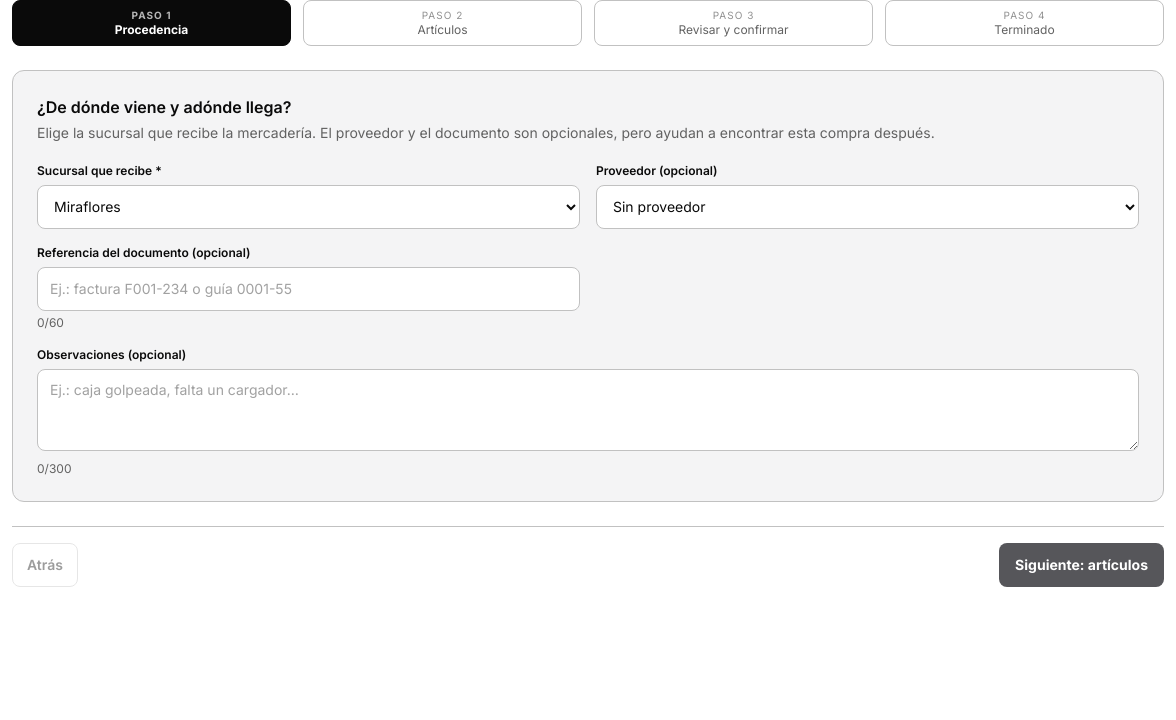
Test: paso 2 · Artículos › el mismo producto dos veces no duplica la línea: avisa y sigue en la misma
Click the button "Siguiente: artículos": coordinates (1082, 564) [999,542,1164,586]
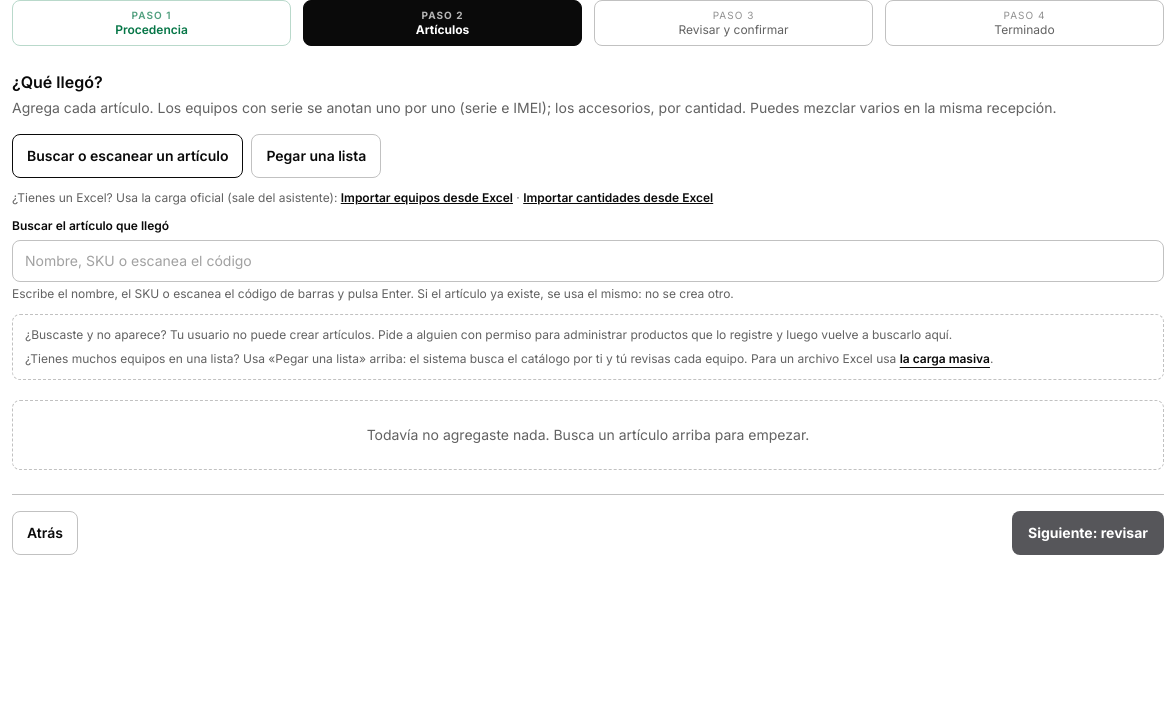
Result: the heading "¿Qué llegó?" is shown at [12,72,103,92]
In the dropdown labelled "Buscar el artículo que llegó": coordinates (588, 260) [12,240,1164,282], type "Cabl"
Then press Enter
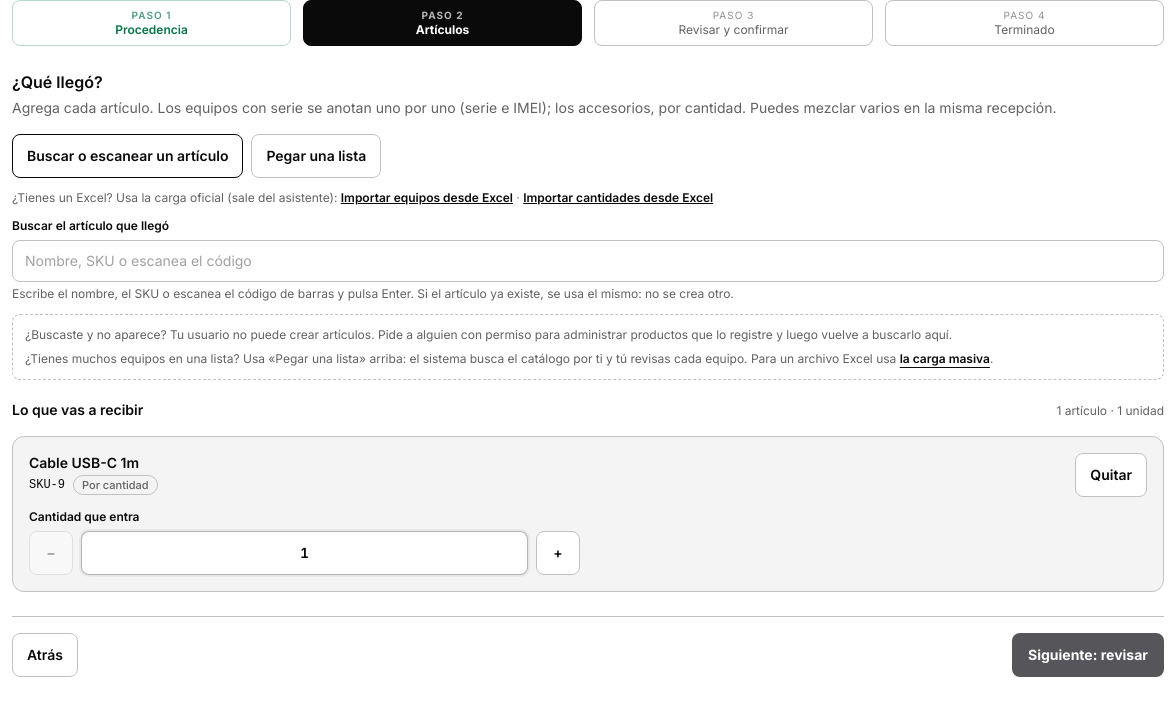
Result: the element "Cable USB-C 1m" is shown at [12,436,1164,592]
In the dropdown labelled "Buscar el artículo que llegó": coordinates (588, 260) [12,240,1164,282], type "Cabl"
Then press Enter
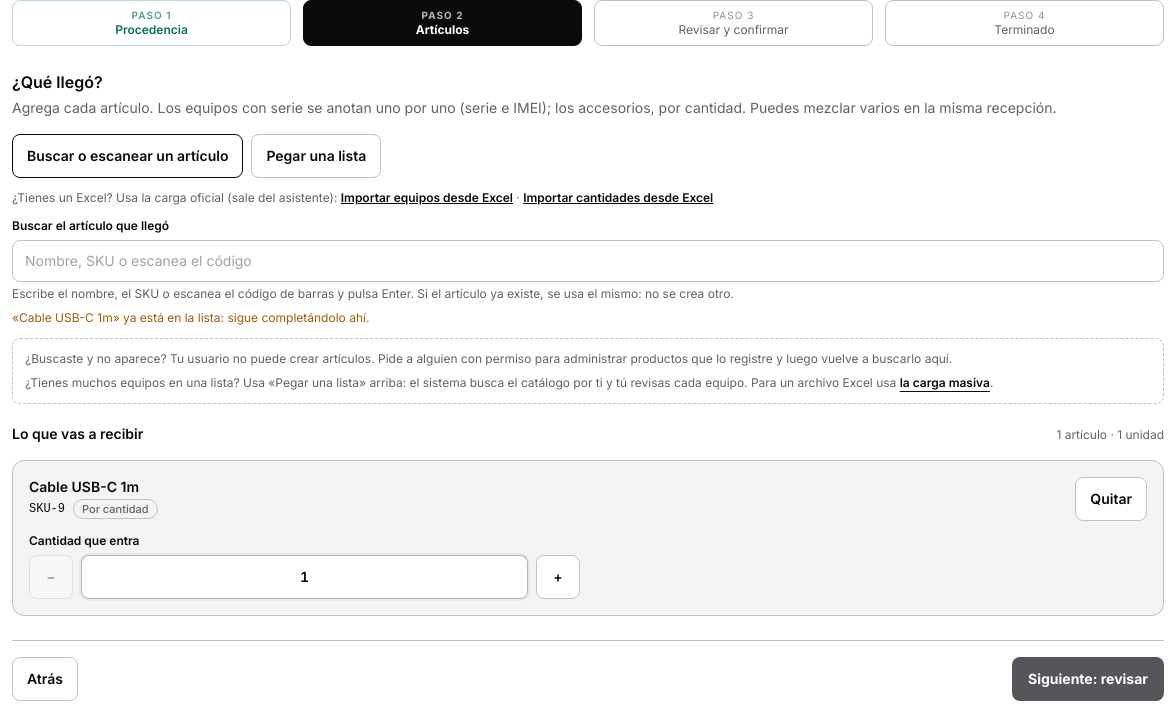
Result: the text "«Cable USB-C 1m» ya está en la lista: sigue completándolo ahí." is shown at [12,310,369,324]
